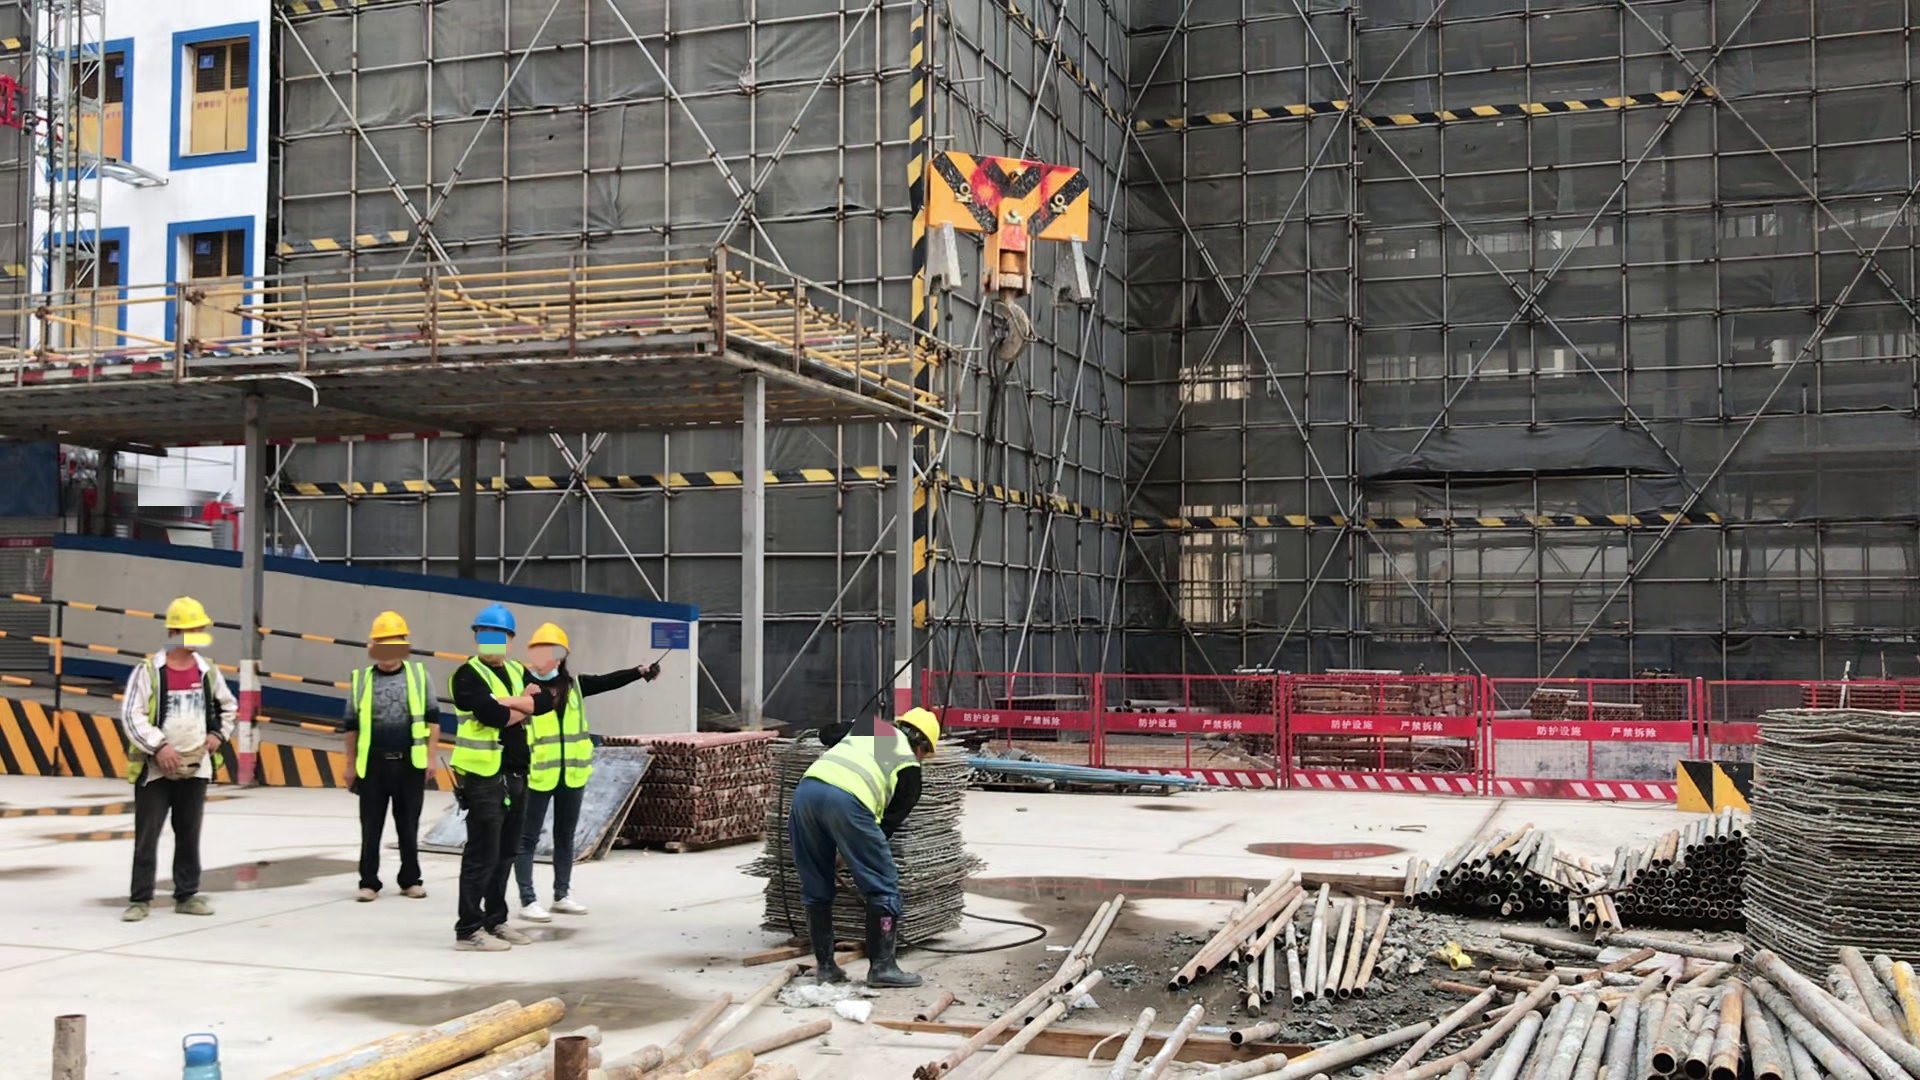fence: (921, 672, 1919, 799)
helmet: (896, 707, 939, 757), (165, 597, 211, 629), (472, 604, 516, 637), (530, 624, 571, 656), (371, 613, 409, 640)
hook: (921, 145, 1094, 366)
person: (796, 707, 935, 991), (123, 598, 234, 920), (523, 624, 613, 924), (452, 604, 529, 950), (348, 613, 436, 901)
scaffold: (615, 734, 763, 842)
vest: (347, 668, 433, 774), (455, 665, 525, 779), (813, 738, 917, 808), (528, 692, 593, 788)
